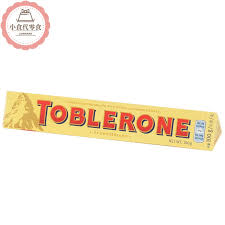Chocolate: (1, 80, 225, 163)
